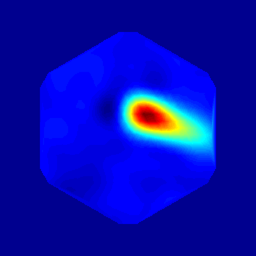ship: (102, 94, 132, 117)
wave: (124, 101, 164, 125)
